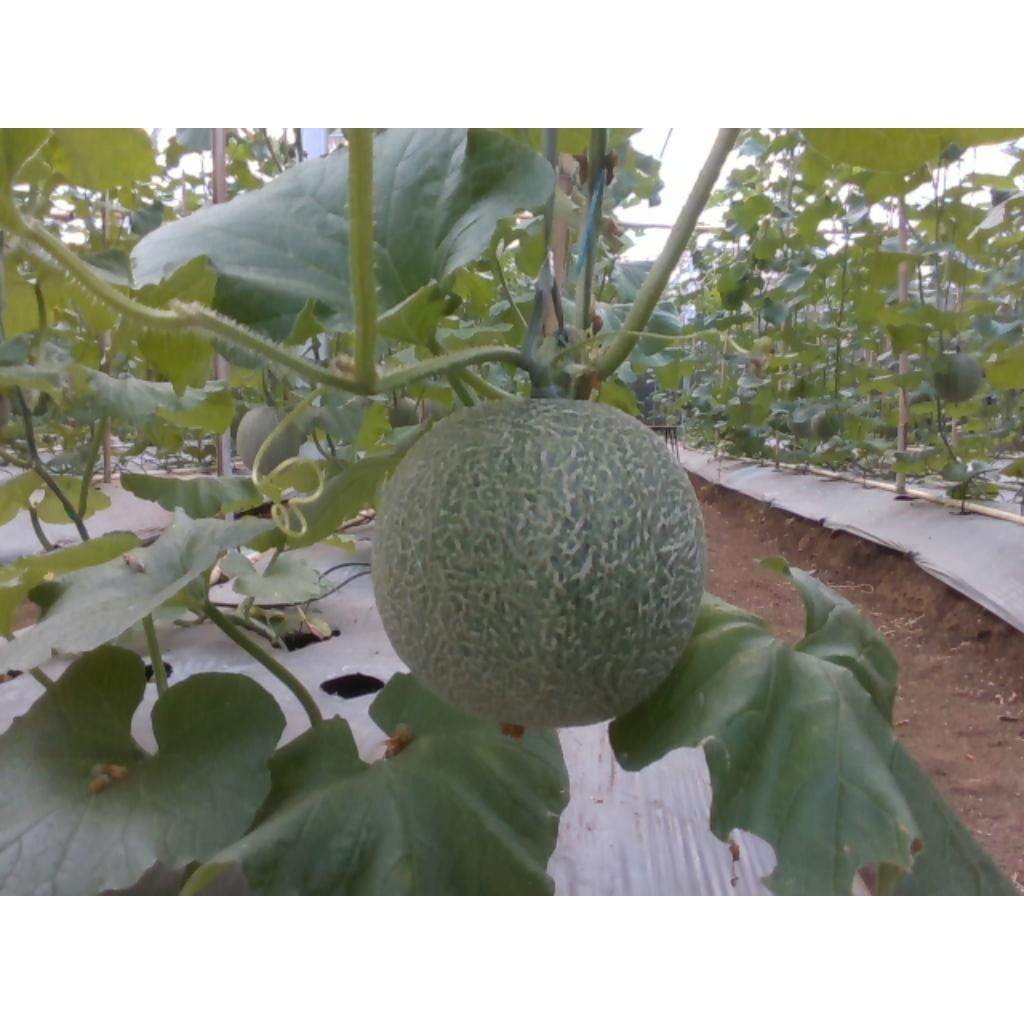melon: (373, 398, 709, 728)
